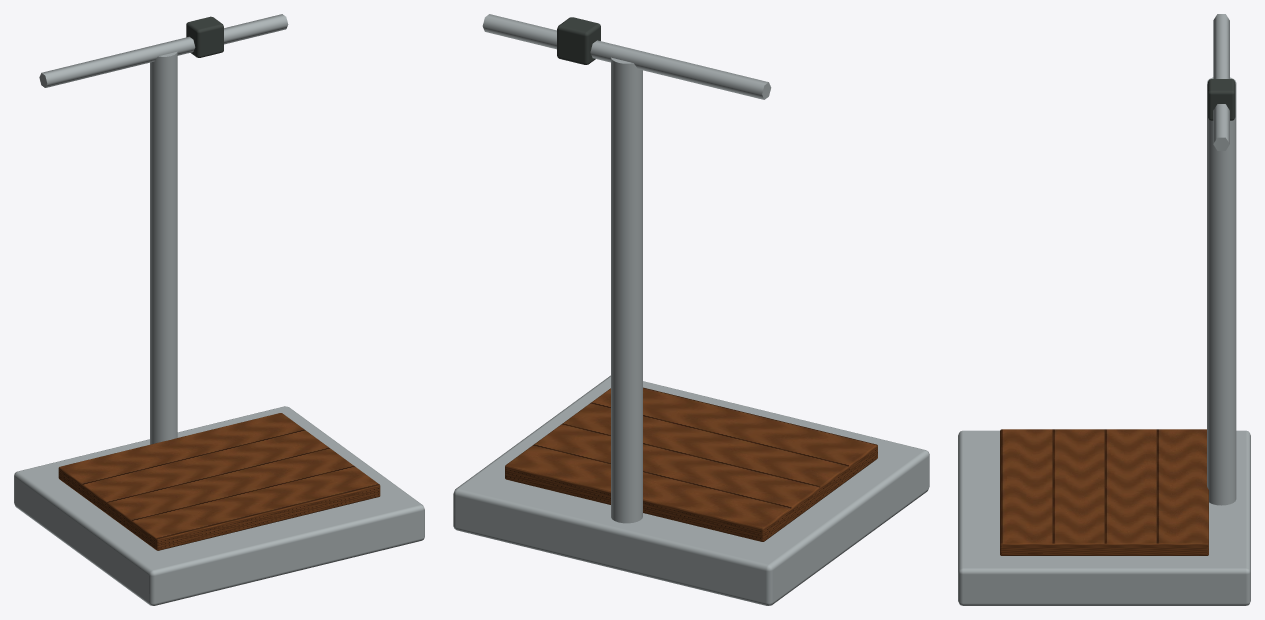
3 renders of one model, left to right at view 1: azimuth 30°, elevation 25°; view 2: azimuth 150°, elevation 25°; view 3: azimuth 270°, elevation 25°, orthographic. The views are drawn at different scales.
Visible parts, largest first — view 1: beam-platform-scale; view 2: beam-platform-scale; view 3: beam-platform-scale.
Part boxes in pixels (left/top/right/bottom): beam-platform-scale: left=14, top=14, right=424, bottom=605; beam-platform-scale: left=453, top=14, right=929, bottom=605; beam-platform-scale: left=958, top=14, right=1250, bottom=605.
Bounding box in the file's own units: 0.8 × 1.25 × 0.7.
3 materials, 1 textured.
